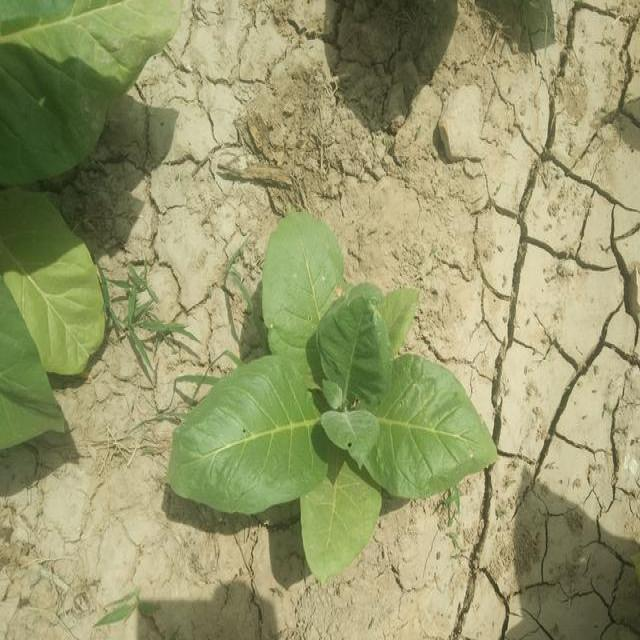crop: (199, 219, 496, 567), (0, 4, 194, 184), (0, 186, 99, 444)
